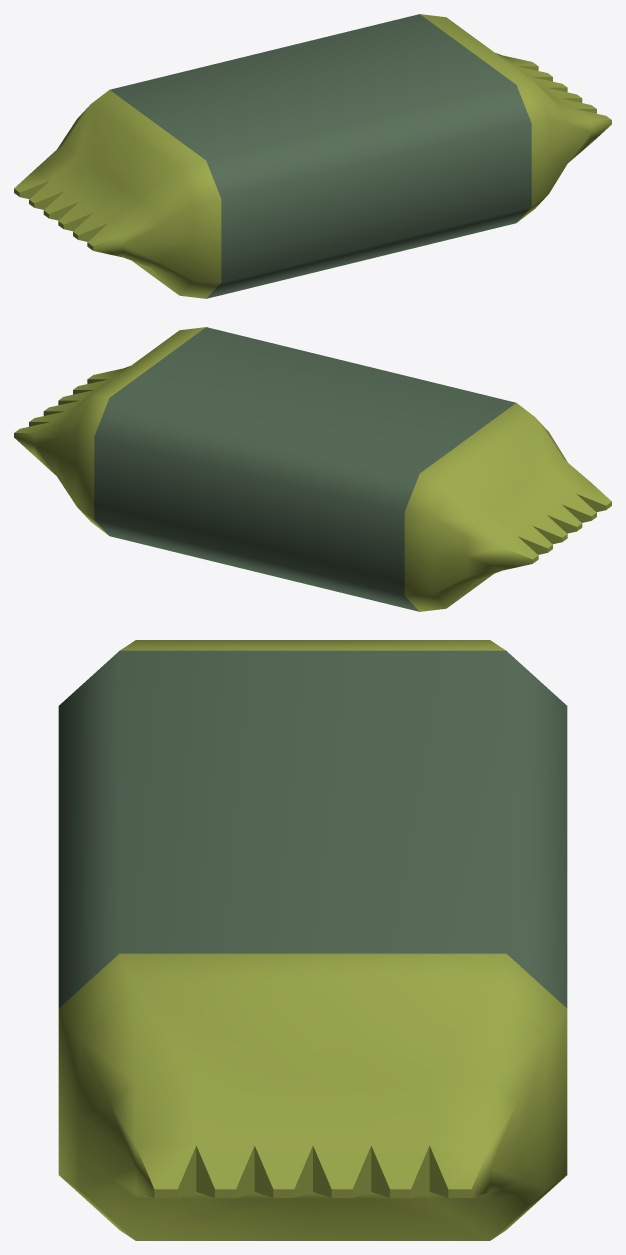
Rendered from Candy_1.fbx.
3 renders of one model, top to bottom at view 1: azimuth 30°, elevation 25°; view 2: azimuth 150°, elevation 25°; view 3: azimuth 270°, elevation 25°, orthographic. The views are drawn at different scales.
Visible parts, largest first — view 1: Candy_1; view 2: Candy_1; view 3: Candy_1.
Part boxes in pixels (x1,y1,x2,y2): Candy_1: [14, 14, 611, 298]; Candy_1: [14, 327, 611, 611]; Candy_1: [58, 640, 567, 1240].
Bounding box in the file's own units: 12.84 × 3.27 × 5.45.
